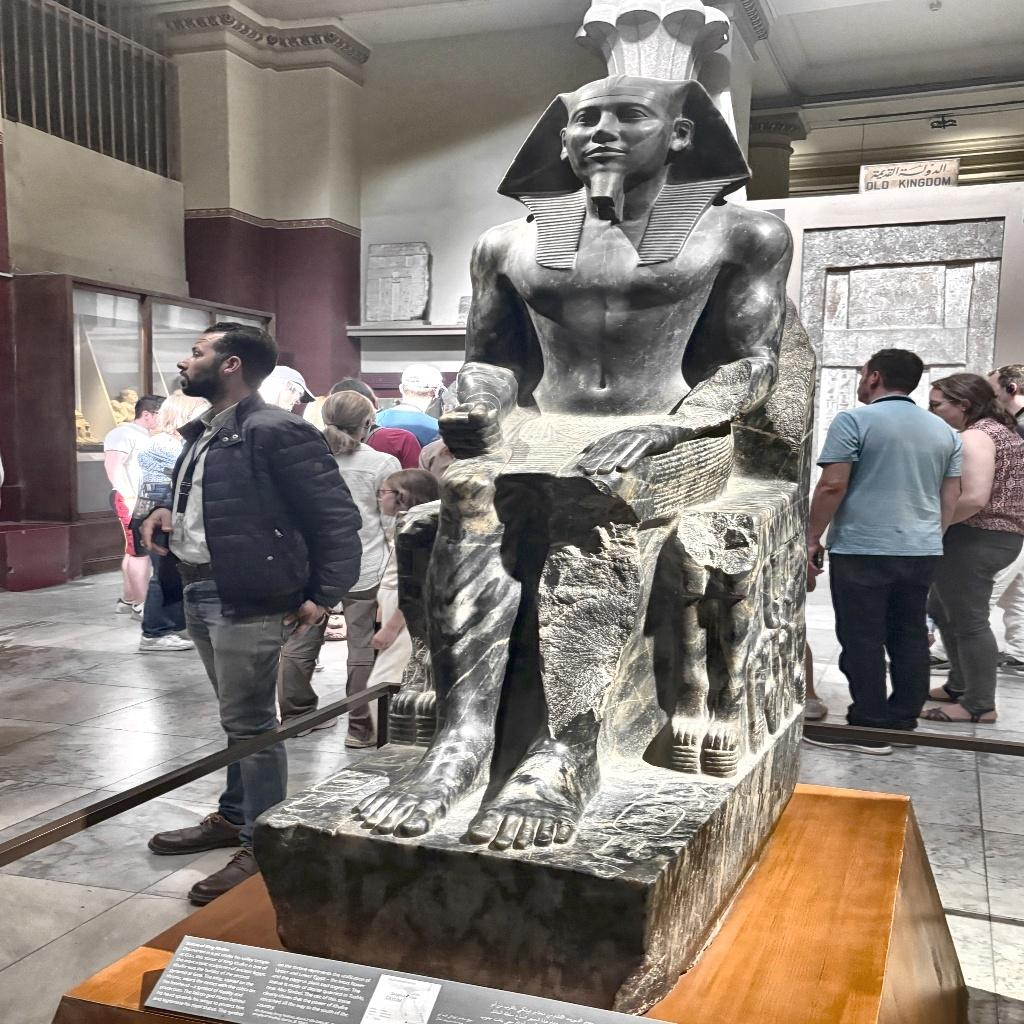Statue of Khafre: (358, 72, 820, 856)
